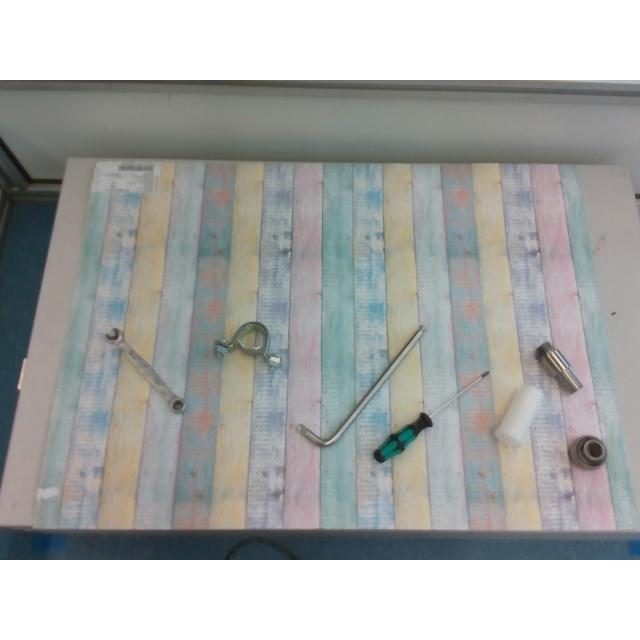AllenKey: (298, 326, 422, 446)
Axis2: (534, 341, 582, 392)
Bearing2: (568, 436, 606, 468)
Housing: (214, 321, 282, 367)
Screwdriver: (373, 370, 489, 462)
Spacer: (493, 385, 542, 445)
Wrench: (104, 328, 184, 412)
